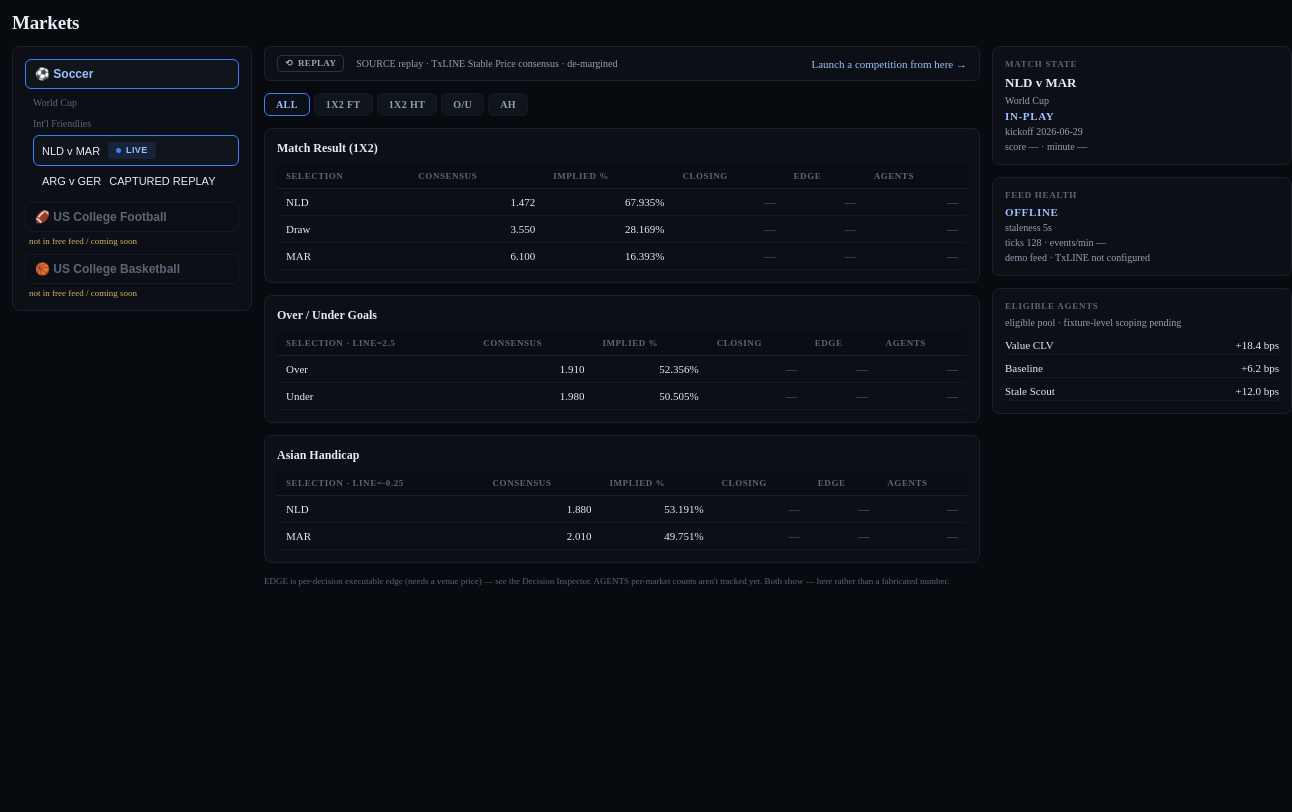
it: MarketsScreen V5 (default-select · right rail · EDGE/AGENTS honesty) › market-type tabs filter the families; the 1X2-HT tab is honestly disabled (not in feed)
clicking O/U narrows to just the Over/Under family.
Click the tab with test id "tab-ou" at (463, 104), box [441, 93, 484, 116]
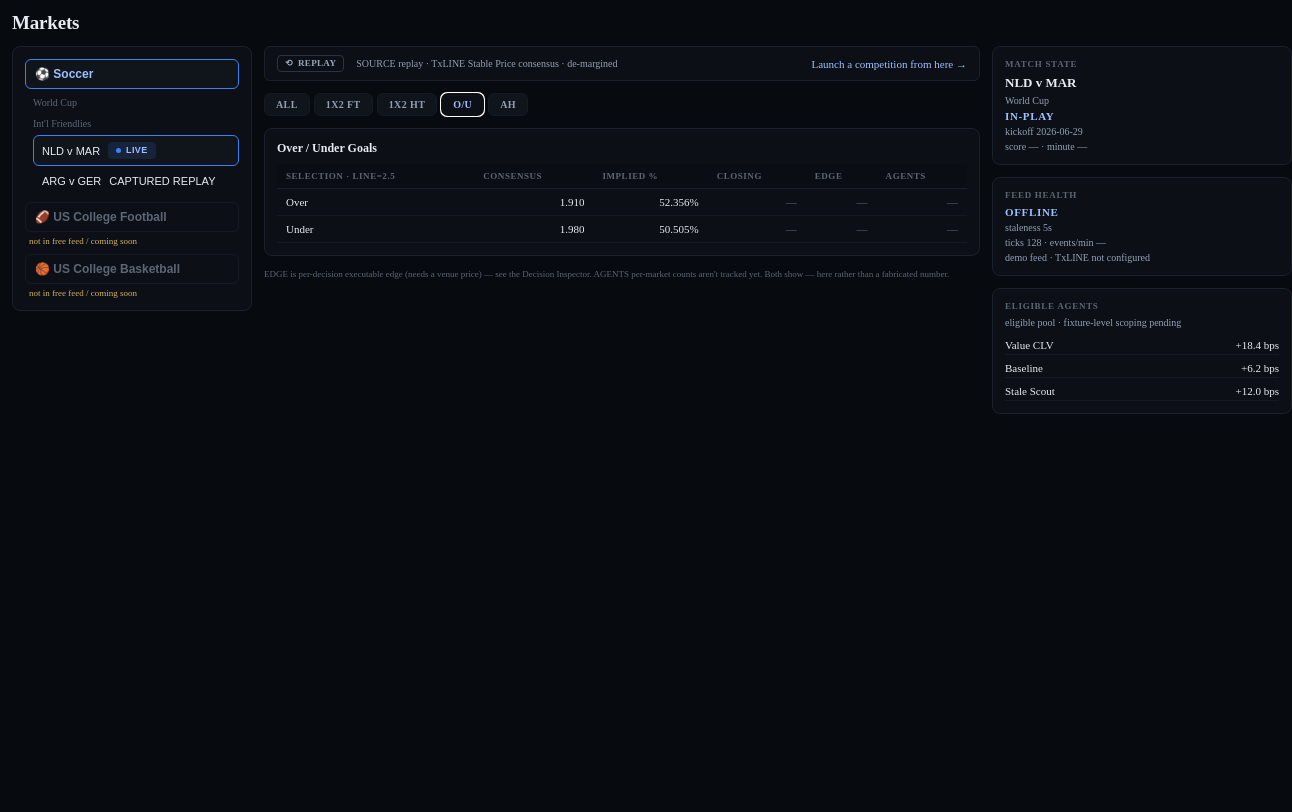
Expected: the heading "Over / Under Goals" is shown, [277, 141, 377, 155]
Expected: the heading "Match Result" is gone
